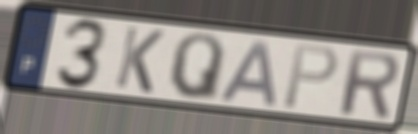3: (55, 16, 108, 92)
A: (216, 38, 280, 109)
K: (112, 23, 167, 96)
P: (280, 42, 341, 112)
Q: (166, 31, 227, 104)
R: (337, 46, 402, 120)
